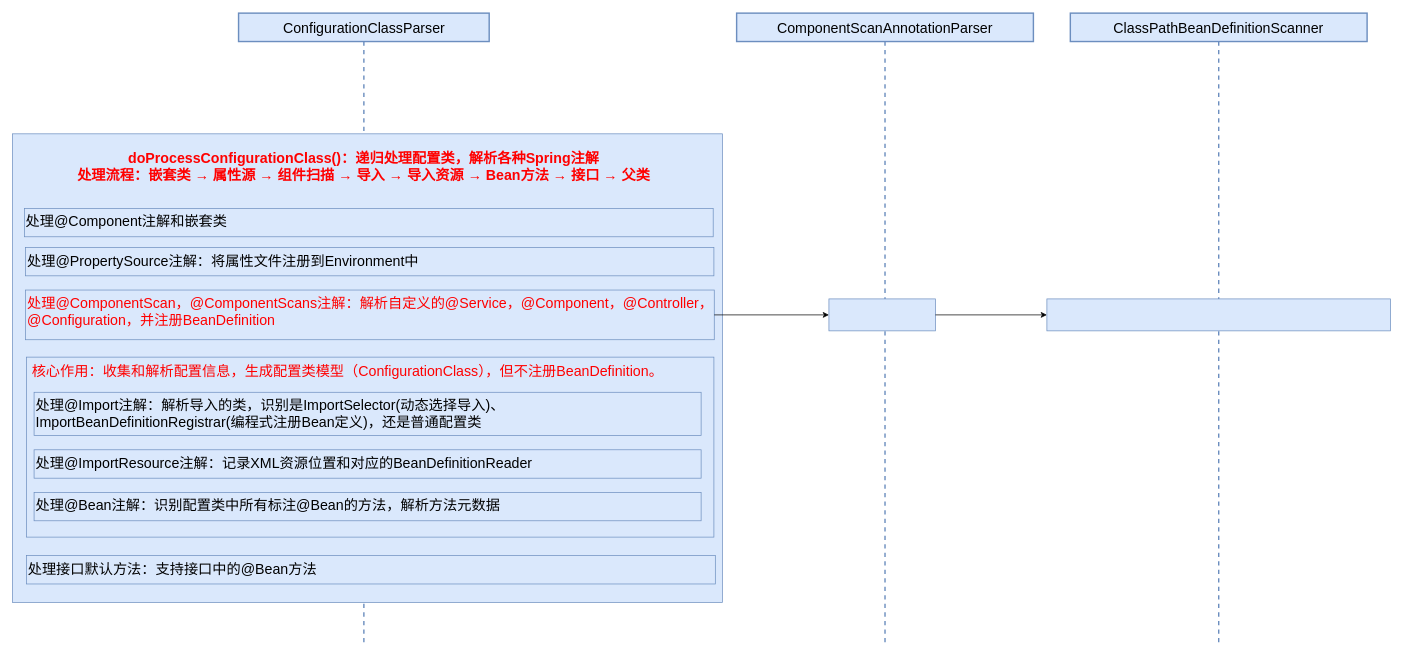
Image size: 1403x657. Some labels were removed from this diagram. The shapes that lost their labels are listed below. From the top down, each one's centre as x and y in pixels, then its label:
the point at 881,314: parse()
the point at 1218,314: doScan()： 在指定的包路径中扫描并注册Bean定义
